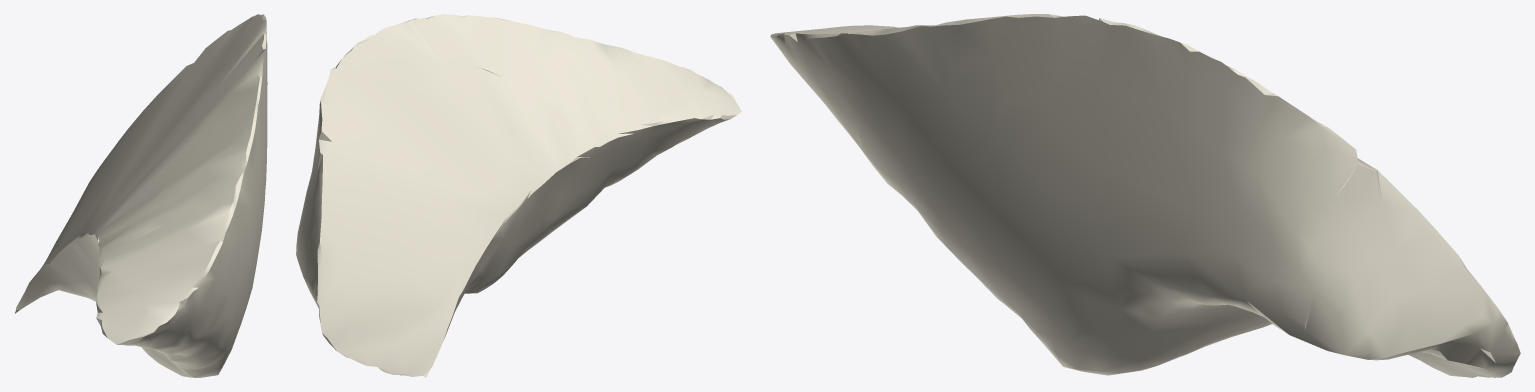
The model's file is fma52909_mm2055.glb.
3 views of the same model, side by side, from view 1: azimuth 30°, elevation 25°; view 2: azimuth 150°, elevation 25°; view 3: azimuth 270°, elevation 25° (orthographic). The views are drawn at different scales.
Parts seen in each view (by area): view 1: FMA52909_MM2055; view 2: FMA52909_MM2055; view 3: FMA52909_MM2055.
Part boxes in pixels (x1=…): FMA52909_MM2055: x1=14, y1=14, x2=267, y2=377; FMA52909_MM2055: x1=296, y1=14, x2=741, y2=377; FMA52909_MM2055: x1=770, y1=14, x2=1520, y2=377.
Size of the model in its own units: 0.0112 by 0.0104 by 0.0167.
